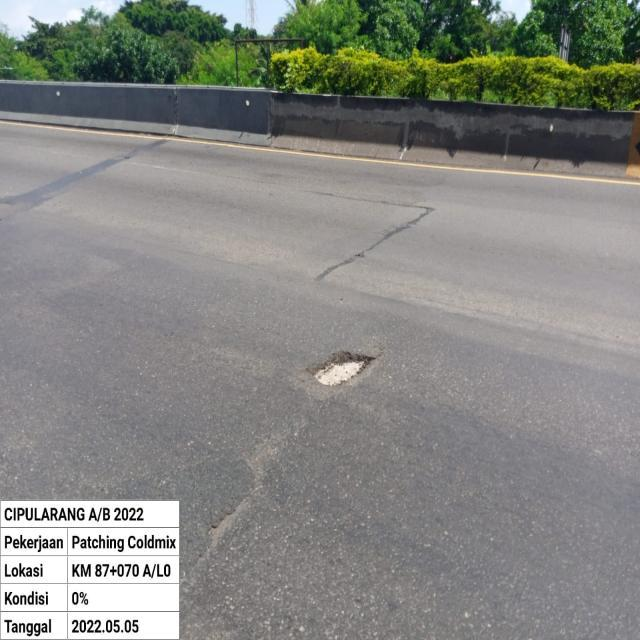Buraco: (302, 348, 380, 389)
